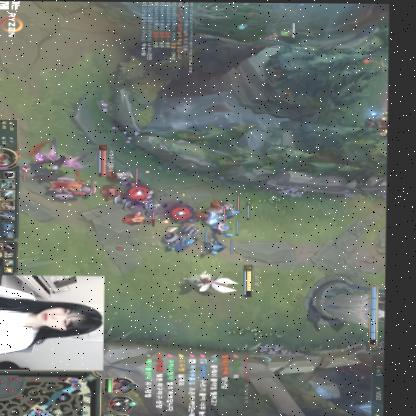streamer: (0, 281, 105, 358)
